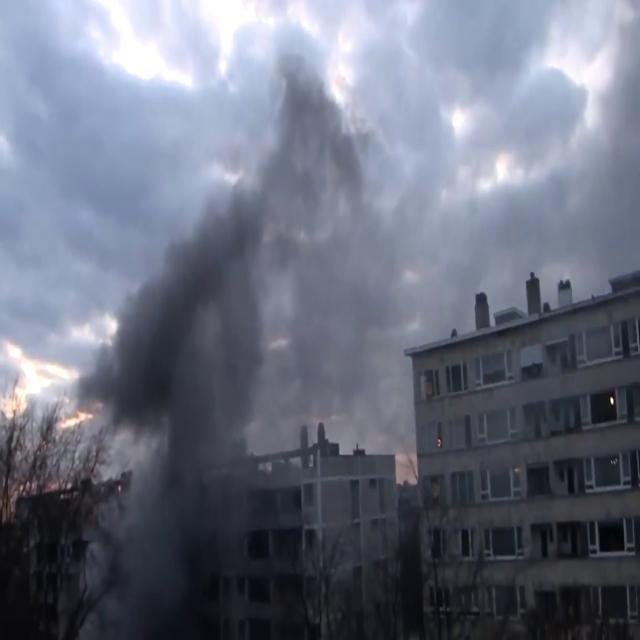Smoke: (65, 58, 417, 638)
